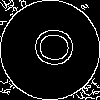O: (25, 25, 75, 69)
